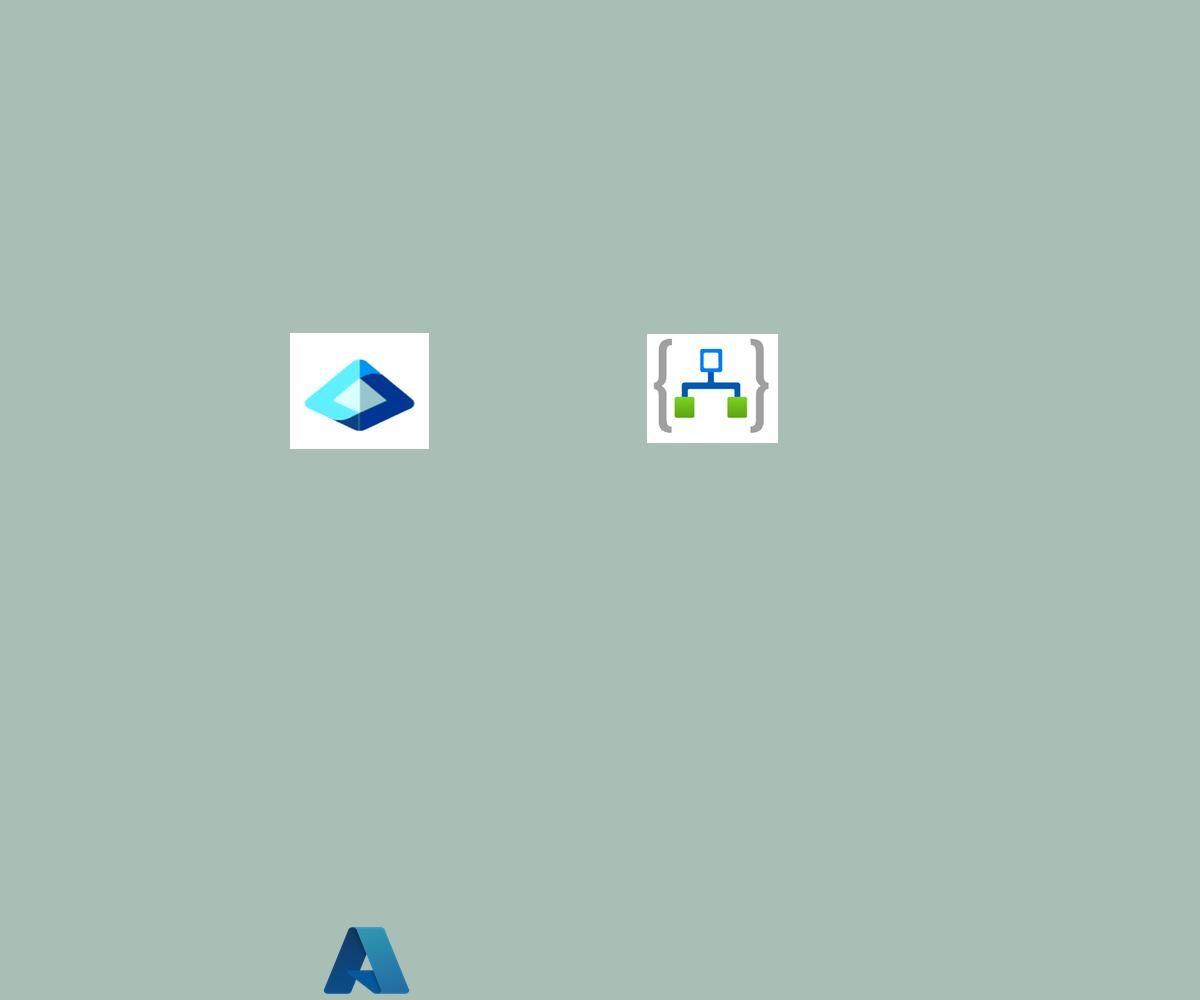Azure_integration-204-Logic-Apps: (647, 334, 778, 443)
Azure_microsoft_entra: (290, 333, 429, 449)
Azure_services: (320, 922, 413, 999)
